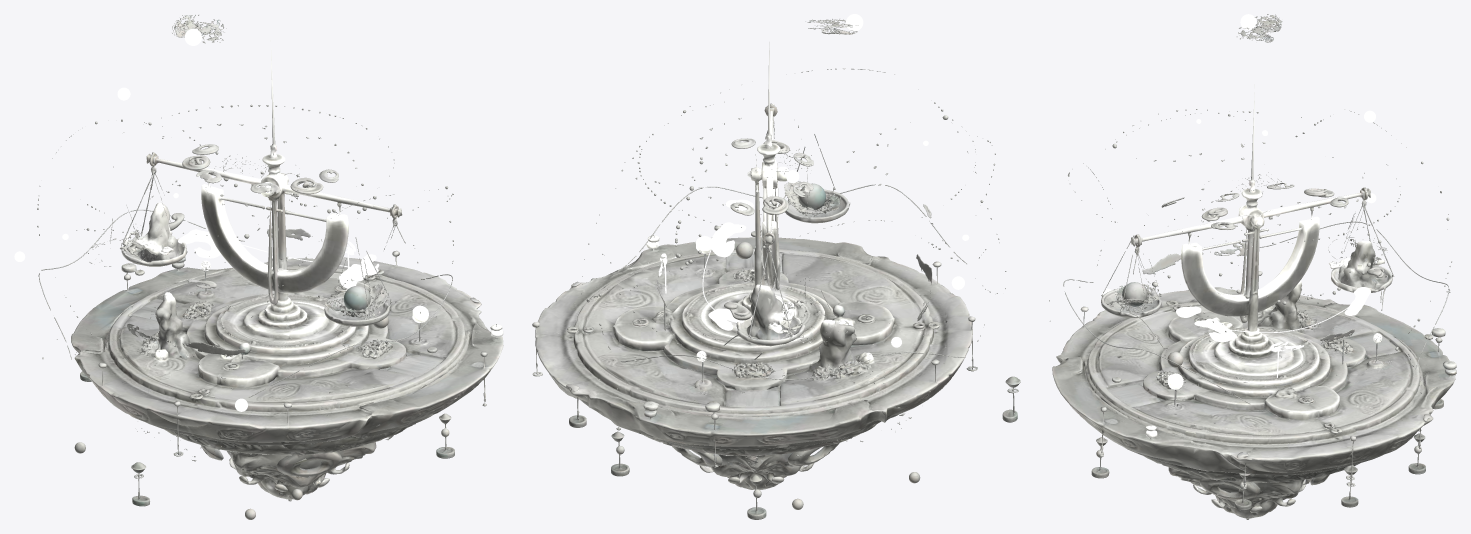
The model's file is house03.glb.
The picture shows the model from 3 angles, left to right: view 1: azimuth 30°, elevation 25°; view 2: azimuth 150°, elevation 25°; view 3: azimuth 270°, elevation 25°; orthographic projection. The views are drawn at different scales.
Size of what is drawn, in the model's own units: 0.9704 by 1.13 by 0.8938.
4 materials, 4 textured.
